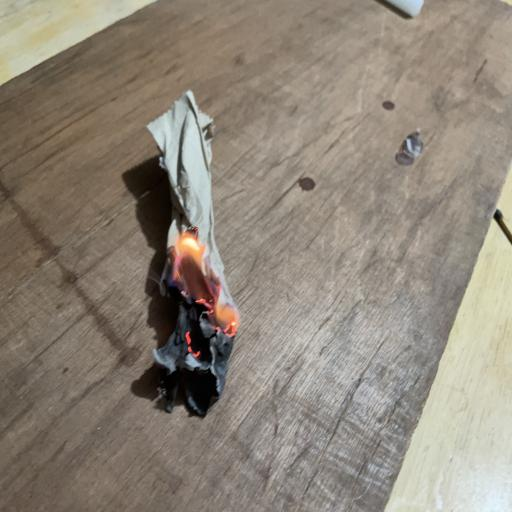fire: (158, 225, 250, 386)
